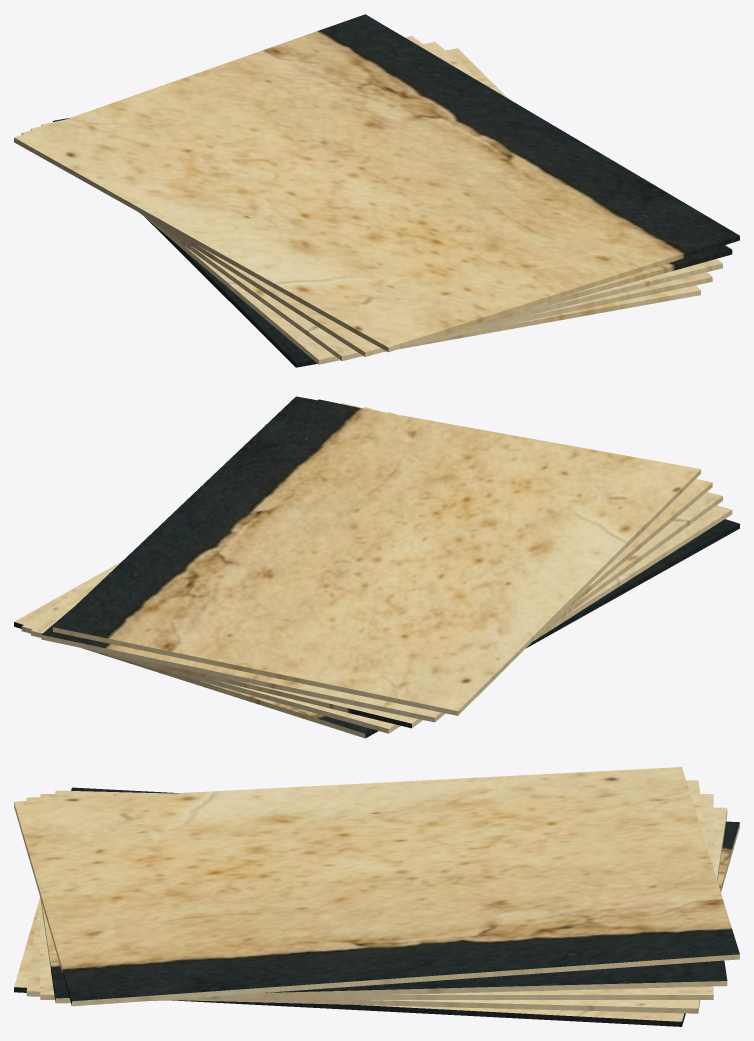
The model's file is SM_Prop_Papers_01.glb.
3 views of the same model, one above another, from view 1: azimuth 30°, elevation 25°; view 2: azimuth 150°, elevation 25°; view 3: azimuth 270°, elevation 25° (orthographic). The views are drawn at different scales.
Parts seen in each view (by area): view 1: SM_Prop_Papers_01; view 2: SM_Prop_Papers_01; view 3: SM_Prop_Papers_01.
Part boxes in pixels (x1,y1,x2,y2): SM_Prop_Papers_01: [14, 14, 739, 367]; SM_Prop_Papers_01: [14, 396, 739, 738]; SM_Prop_Papers_01: [14, 767, 739, 1026].
Size of the model in its own units: 0.2446 by 0.0185 by 0.3204.
1 material, 1 textured.
